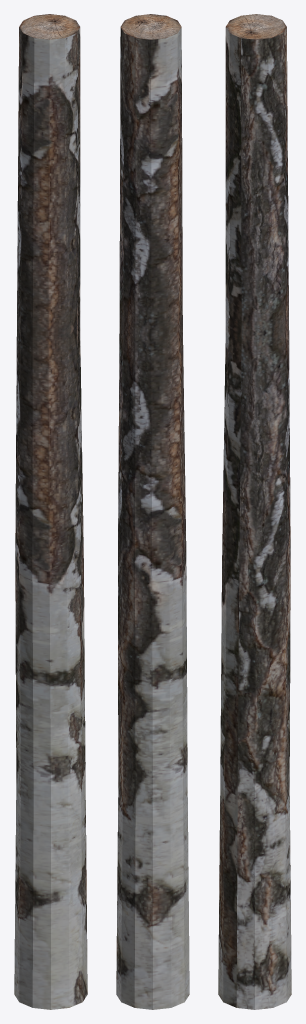
Rendered from puunrunko3.fbx.
3 renders of one model, left to right at view 1: azimuth 90°, elevation 25°; view 2: azimuth 150°, elevation 25°; view 3: azimuth 270°, elevation 25°, orthographic.
Parts seen in each view (by area): view 1: puunrunko1; view 2: puunrunko1; view 3: puunrunko1.
Part boxes in pixels (bbox=[...]): puunrunko1: bbox=[14, 14, 87, 1009]; puunrunko1: bbox=[116, 14, 189, 1009]; puunrunko1: bbox=[218, 14, 291, 1009].
Bounding box in the file's own units: 206 × 3000 × 206.
